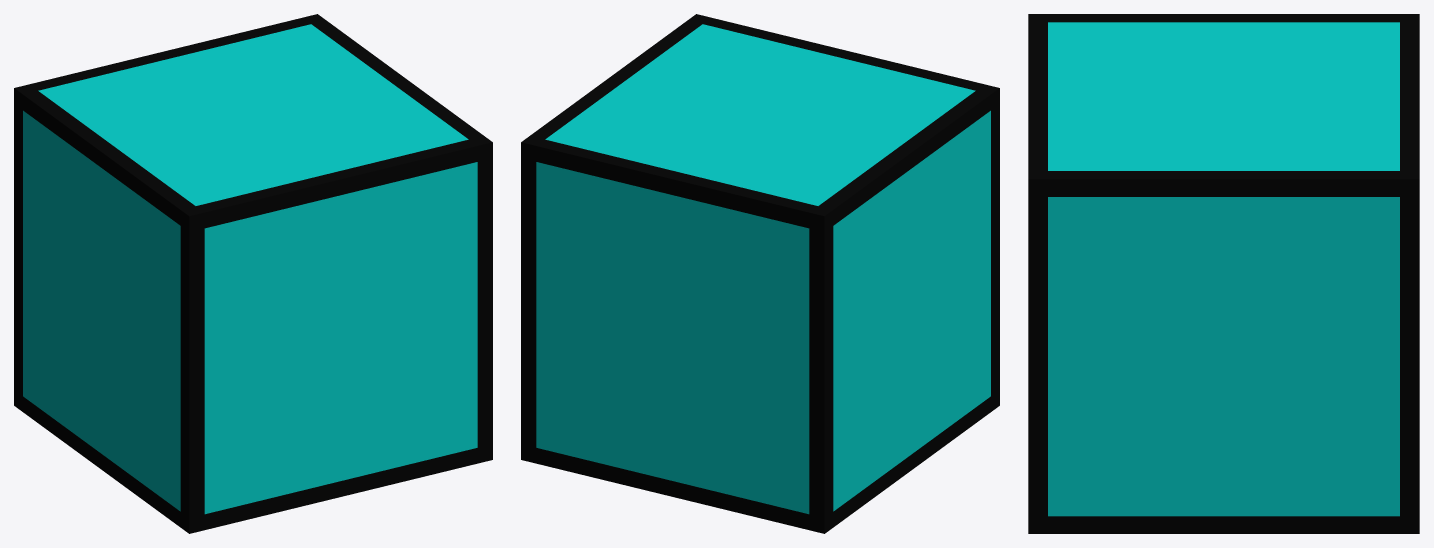
Rendered from LightBlue.fbx.
3 renders of one model, left to right at view 1: azimuth 30°, elevation 25°; view 2: azimuth 150°, elevation 25°; view 3: azimuth 270°, elevation 25°, orthographic. The views are drawn at different scales.
Parts seen in each view (by area): view 1: Cube; view 2: Cube; view 3: Cube.
Part boxes in pixels (<box>): Cube: <box>14,14,492,533</box>; Cube: <box>521,14,999,533</box>; Cube: <box>1028,14,1419,533</box>.
Bounding box in the file's own units: 200 × 200 × 200.
